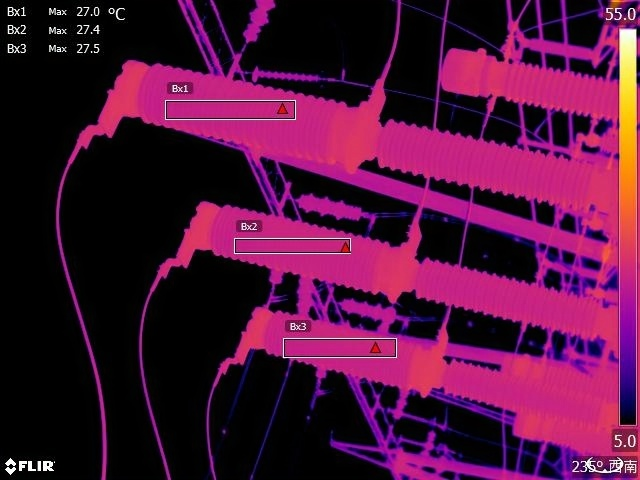circuit breaker: (99, 50, 601, 217), (177, 189, 597, 335), (235, 298, 618, 454)
current transformer: (437, 41, 615, 124)
insulator: (288, 188, 378, 229), (237, 1, 280, 46), (251, 65, 328, 90), (334, 297, 411, 322)
